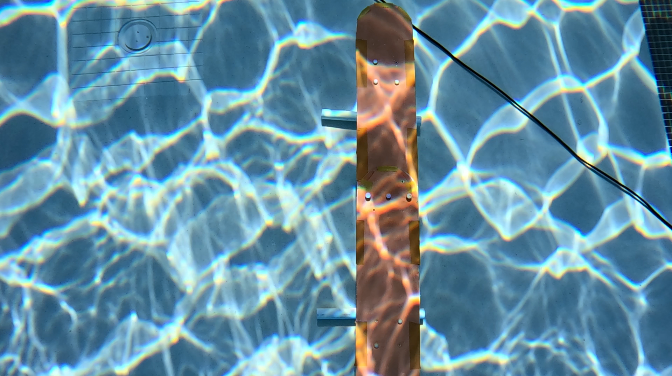pathmarker: (356, 4, 419, 375)
